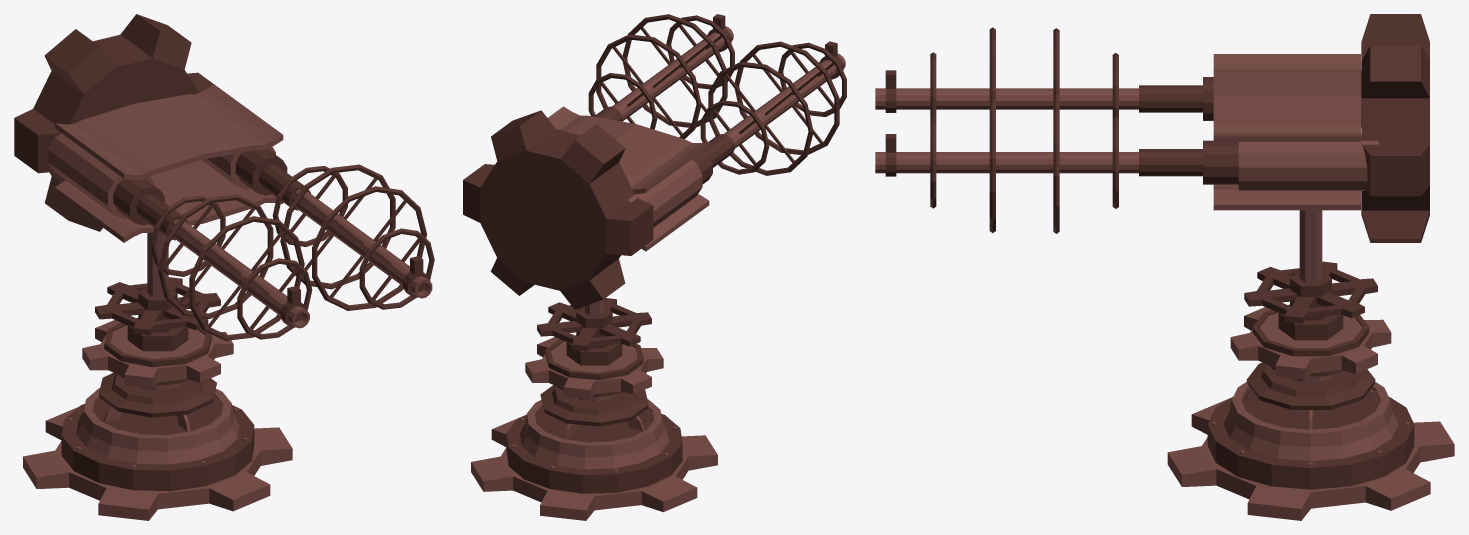
File: t_Laser_Doble.glb
3 renders of one model, left to right at view 1: azimuth 30°, elevation 25°; view 2: azimuth 150°, elevation 25°; view 3: azimuth 270°, elevation 25°, orthographic. The views are drawn at different scales.
Parts seen in each view (by area): view 1: Laser_Doble_Gun_Cylinder.252, Laser_Doble_Base_Cylinder.146, Laser_Doble_Mid_Cylinder.251; view 2: Laser_Doble_Gun_Cylinder.252, Laser_Doble_Base_Cylinder.146, Laser_Doble_Mid_Cylinder.251; view 3: Laser_Doble_Gun_Cylinder.252, Laser_Doble_Base_Cylinder.146, Laser_Doble_Mid_Cylinder.251.
Boxes of the visible parts, left/top/right/bottom form: Laser_Doble_Gun_Cylinder.252: left=14, top=14, right=434, bottom=340; Laser_Doble_Base_Cylinder.146: left=23, top=318, right=292, bottom=520; Laser_Doble_Mid_Cylinder.251: left=95, top=231, right=220, bottom=351; Laser_Doble_Gun_Cylinder.252: left=463, top=14, right=846, bottom=309; Laser_Doble_Base_Cylinder.146: left=471, top=337, right=717, bottom=520; Laser_Doble_Mid_Cylinder.251: left=537, top=298, right=651, bottom=365; Laser_Doble_Gun_Cylinder.252: left=875, top=14, right=1429, bottom=242; Laser_Doble_Base_Cylinder.146: left=1167, top=304, right=1454, bottom=520; Laser_Doble_Mid_Cylinder.251: left=1244, top=210, right=1377, bottom=340.
Size of the model in its own units: 1.41 by 2.29 by 2.78.
